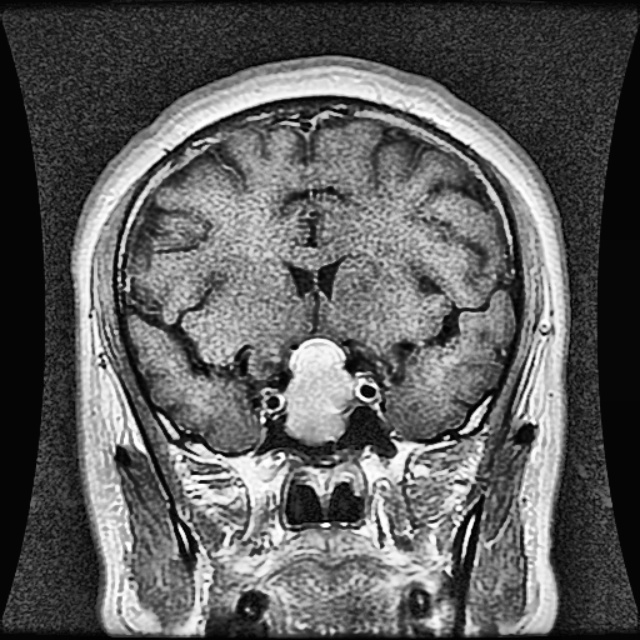Pituitary: (284, 340, 354, 442)
